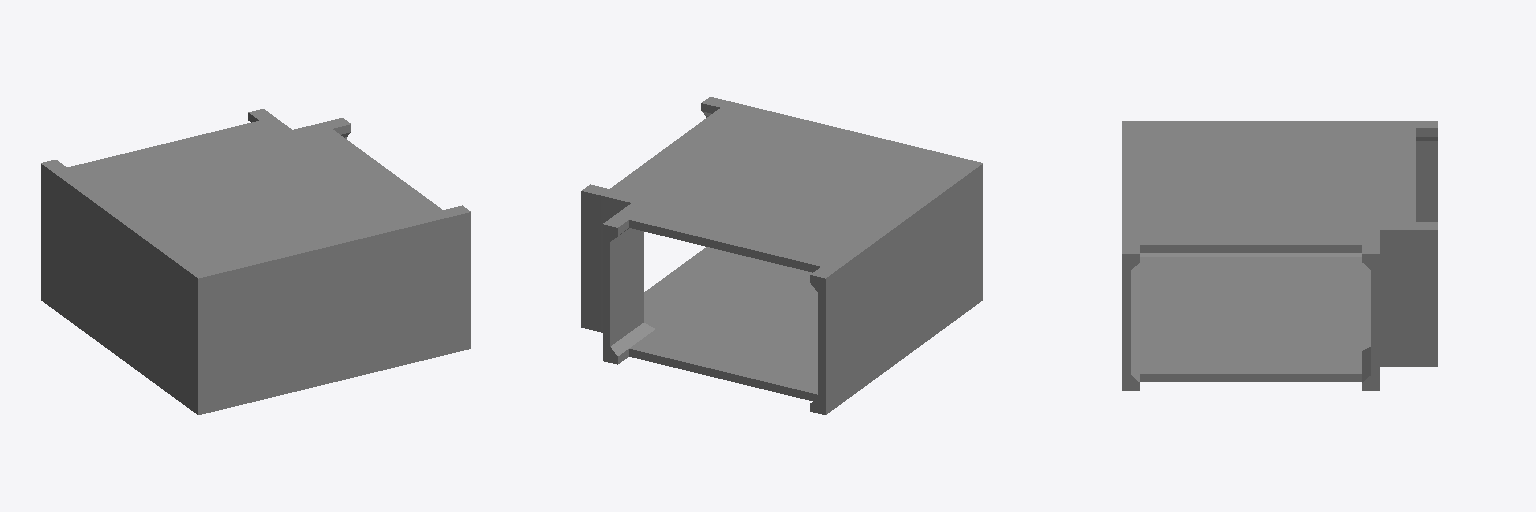
3 views of the same model, side by side, from view 1: azimuth 30°, elevation 25°; view 2: azimuth 150°, elevation 25°; view 3: azimuth 270°, elevation 25° (orthographic).
Parts seen in each view (by area): view 1: SM_90Turn_E001; view 2: SM_90Turn_E001; view 3: SM_90Turn_E001.
Boxes of the visible parts, <box> form: SM_90Turn_E001: <box>41,109,470,414</box>; SM_90Turn_E001: <box>581,97,982,414</box>; SM_90Turn_E001: <box>1122,121,1437,390</box>.
Size of the model in its own units: 280 by 134 by 280.